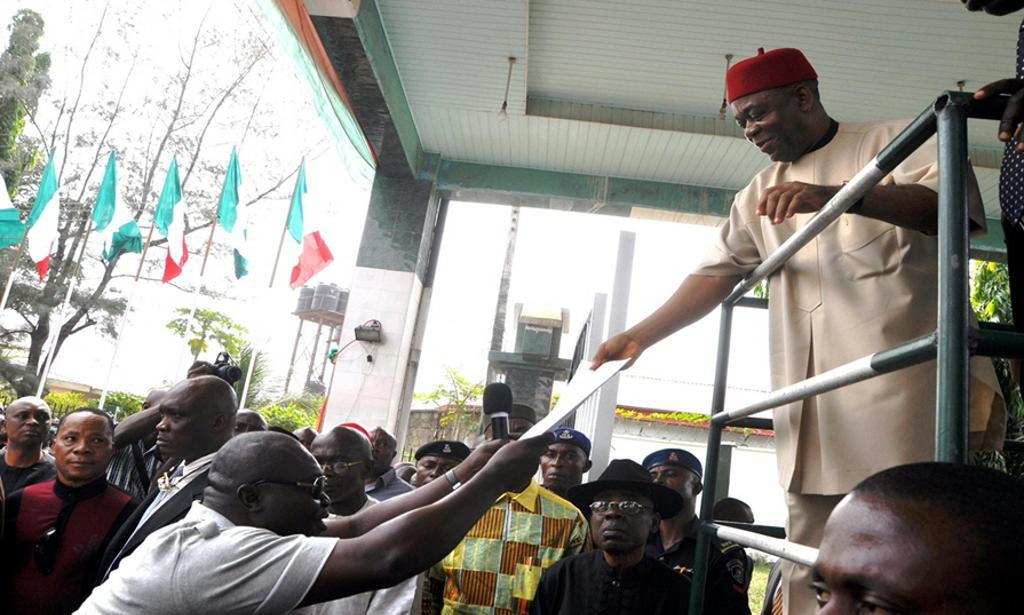face: (811, 504, 956, 615), (732, 85, 793, 162), (281, 451, 331, 536), (592, 487, 650, 551), (56, 418, 112, 478), (157, 393, 205, 453), (487, 424, 537, 476), (312, 441, 353, 502), (417, 456, 467, 504), (647, 469, 691, 517), (541, 443, 583, 489), (144, 391, 175, 448), (8, 405, 52, 443), (231, 415, 265, 456), (366, 431, 393, 471), (734, 510, 753, 549), (296, 436, 317, 459)
